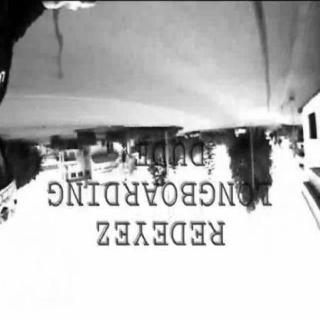other: (178, 102, 300, 134)
